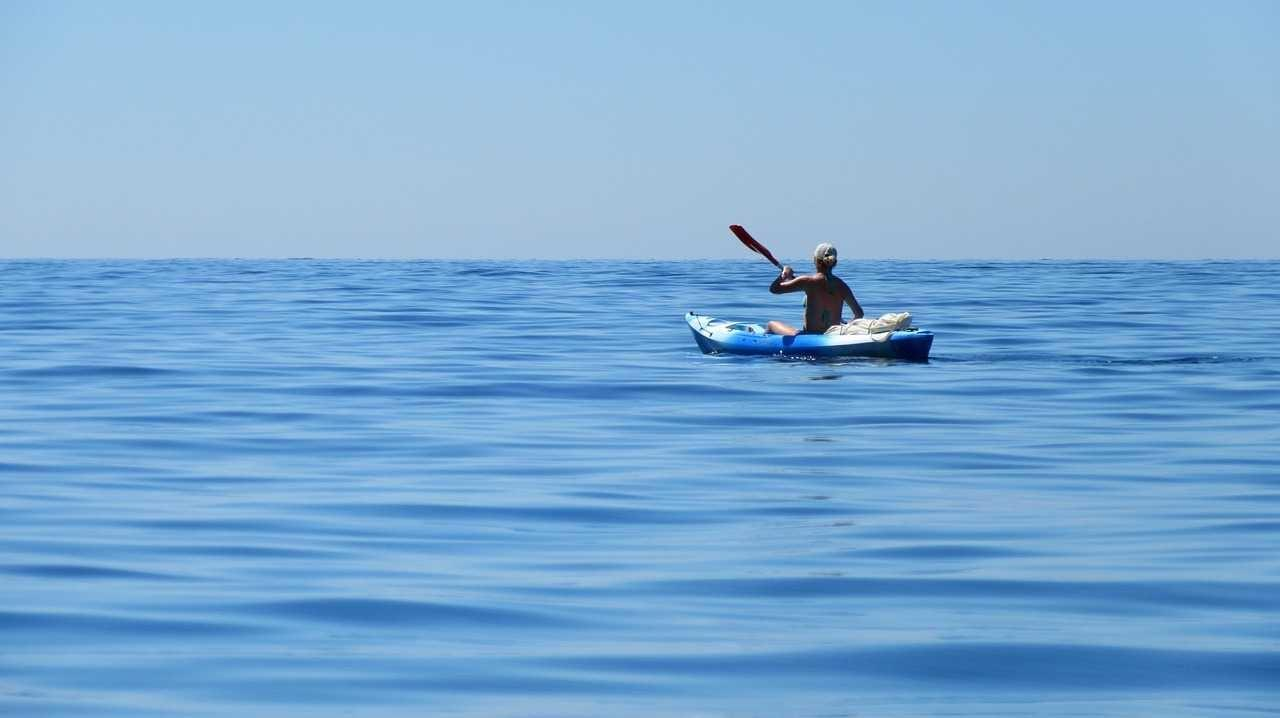kayak: (685, 310, 934, 358)
